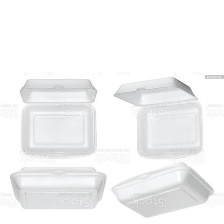foam_box: (110, 73, 208, 164), (15, 76, 101, 163), (109, 160, 217, 220), (7, 162, 110, 216)
